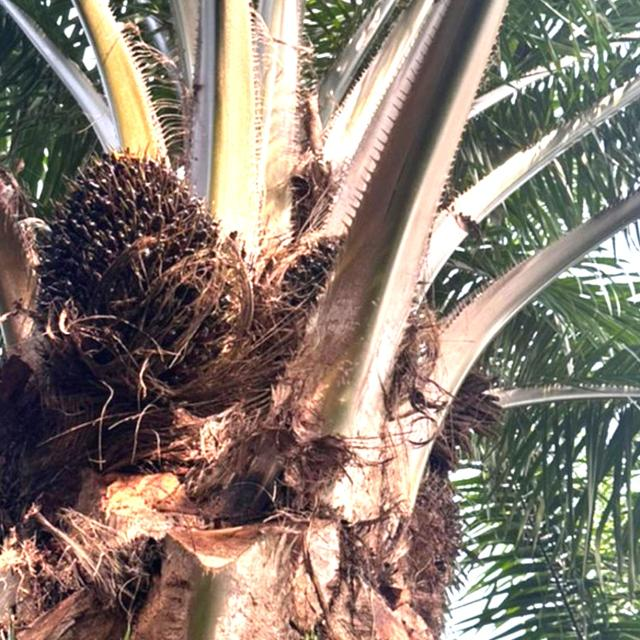unripe: (34, 145, 253, 394), (279, 211, 437, 392)
